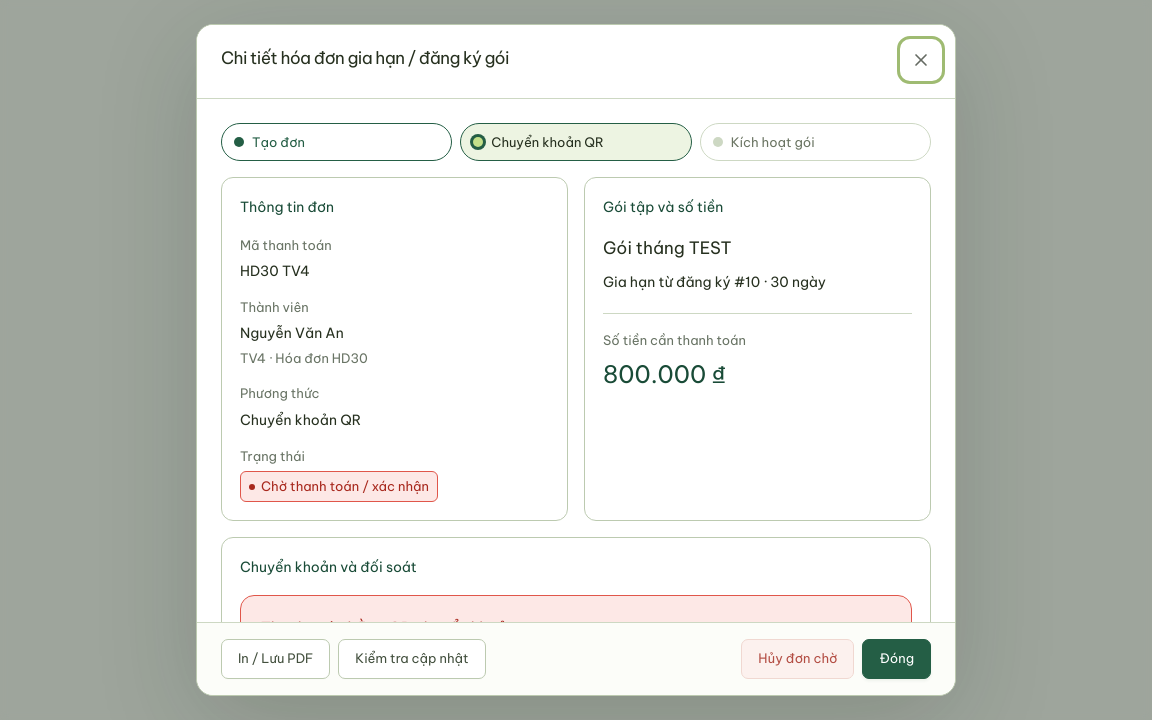
Test: Hủy đơn chờ thanh toán › lễ tân xác nhận hủy qua API và QR biến mất sau phản hồi
The image size is (1152, 720).
Click the button "Hủy đơn chờ". click: (798, 659)
box: [741,639,854,679]
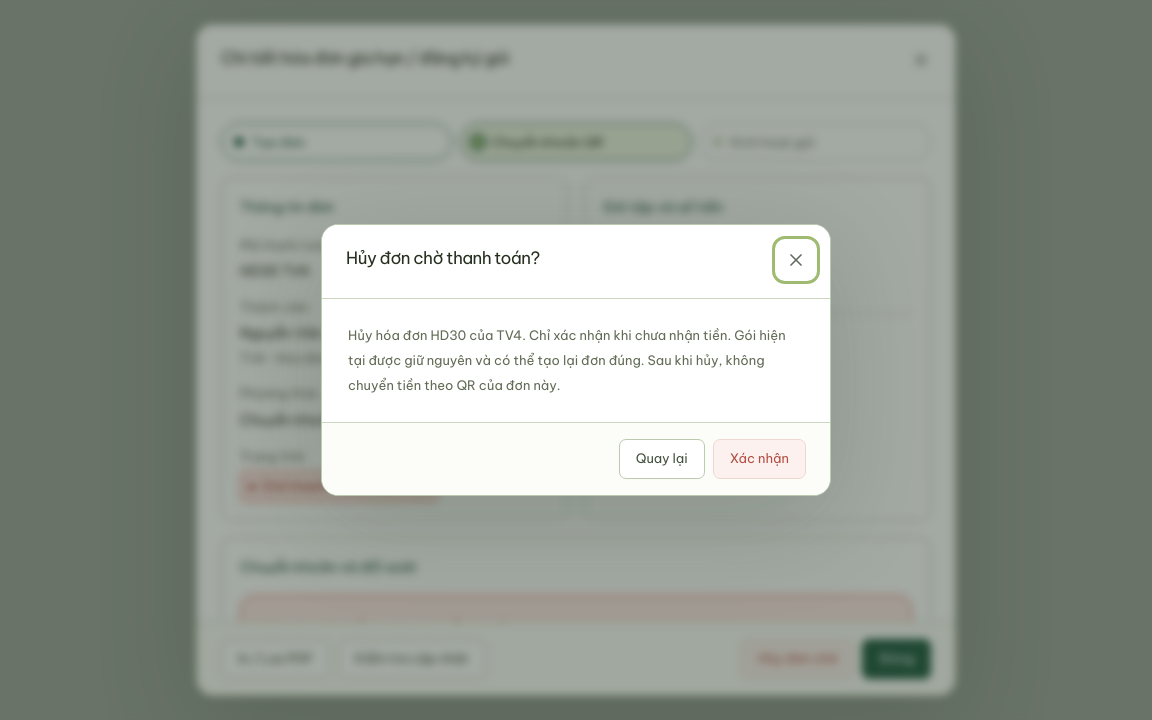
Click the button "Xác nhận". click: (759, 458)
box: [713,438,806,478]
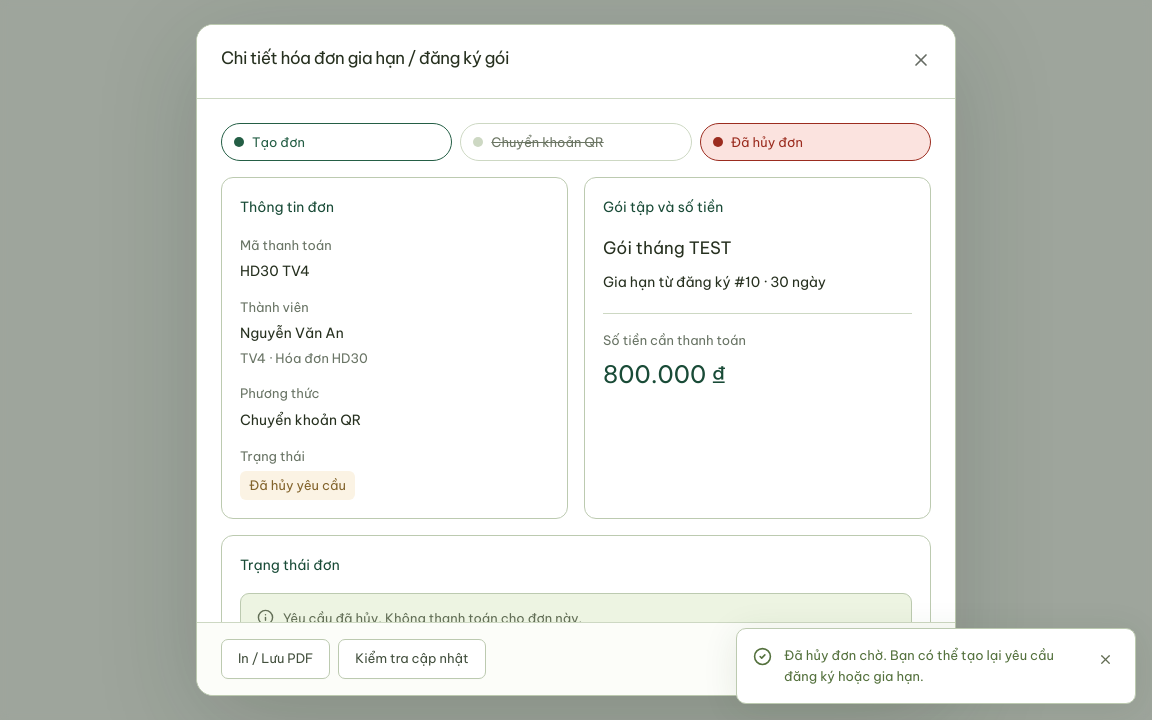
Result: the text "Yêu cầu đã hủy. Không thanh toán cho đơn này." is shown at [283,607,582,622]
